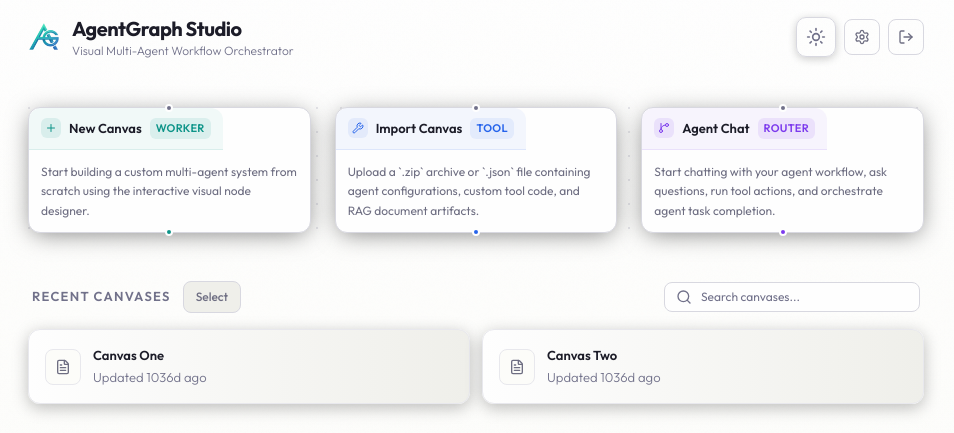
App — landing page › toggles all visible canvases on Select All click
This screenshot has width=954, height=433.
Check: the text "Canvas One" is shown, box [93,347,164,363]
Note: Enter selection mode
What coordinates should you click on to do the following:
click the button "Select"
I would click on:
 (212, 297)
Its box is [183,281,241,313].
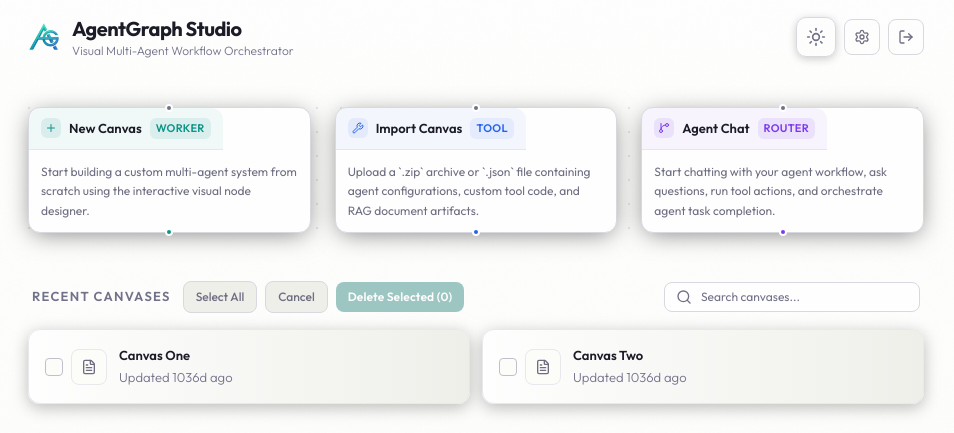
Note: Click Select All
What coordinates should you click on to do the following:
click the button "Select All"
I would click on:
 (220, 297)
Its box is [183,281,257,313].
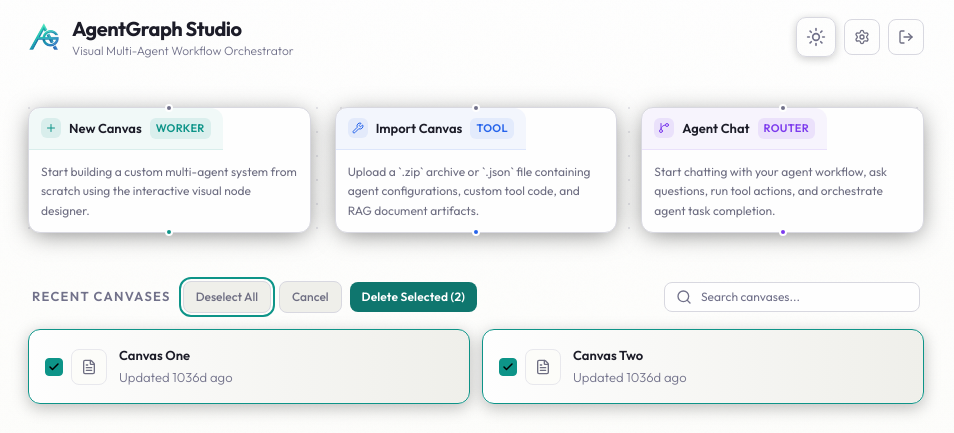
Check: the button "Delete Selected (2)" is shown, box [350,282,477,312]
Check: the button "Deselect All" is shown
Note: Click Deselect All
What coordinates should you click on to do the following:
click the button "Deselect All"
I would click on:
 (227, 297)
Its box is [183,281,271,313].
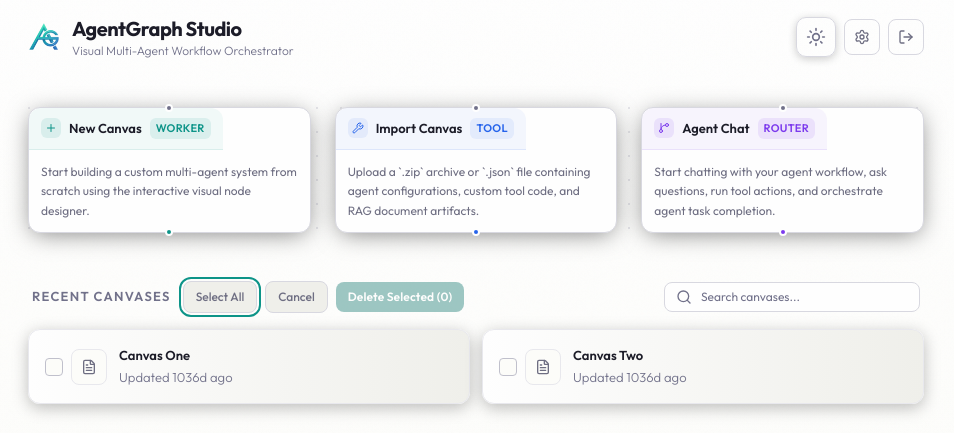
Check: the button "Select All" is shown, box [183,281,257,313]
Check: the button "Delete Selected (0)" is shown, box [336,282,464,312]
